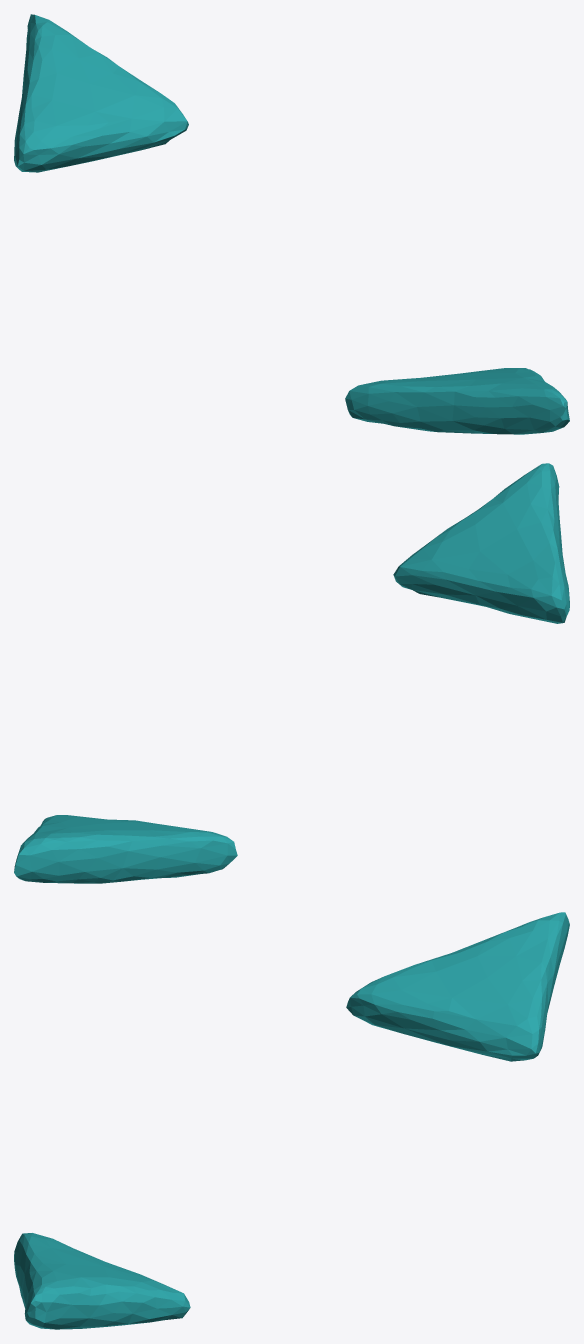
The picture shows the model from 3 angles, top to bottom: view 1: azimuth 30°, elevation 25°; view 2: azimuth 150°, elevation 25°; view 3: azimuth 330°, elevation 25°; orthographic projection.
Parts seen in each view (by area): view 1: 1066.obj; view 2: 1066.obj; view 3: 1066.obj.
Boxes of the visible parts, <box> form: 1066.obj: <box>14,14,569,434</box>; 1066.obj: <box>14,463,569,883</box>; 1066.obj: <box>14,912,569,1329</box>.
Bounding box in the file's own units: 884 × 359 × 4549.
